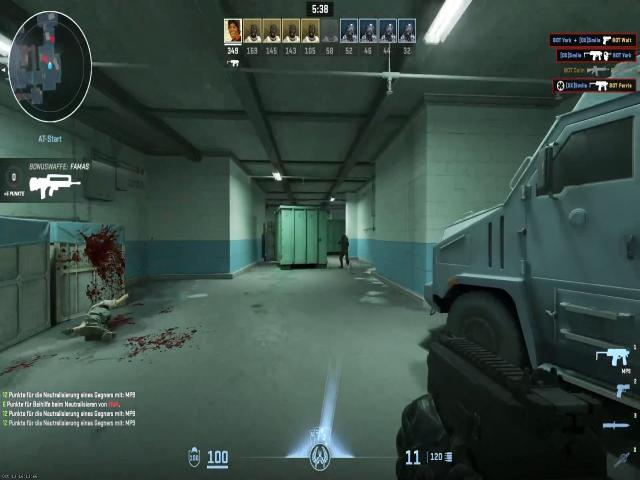CT: (338, 230, 350, 266)
Dead: (68, 281, 134, 361)
